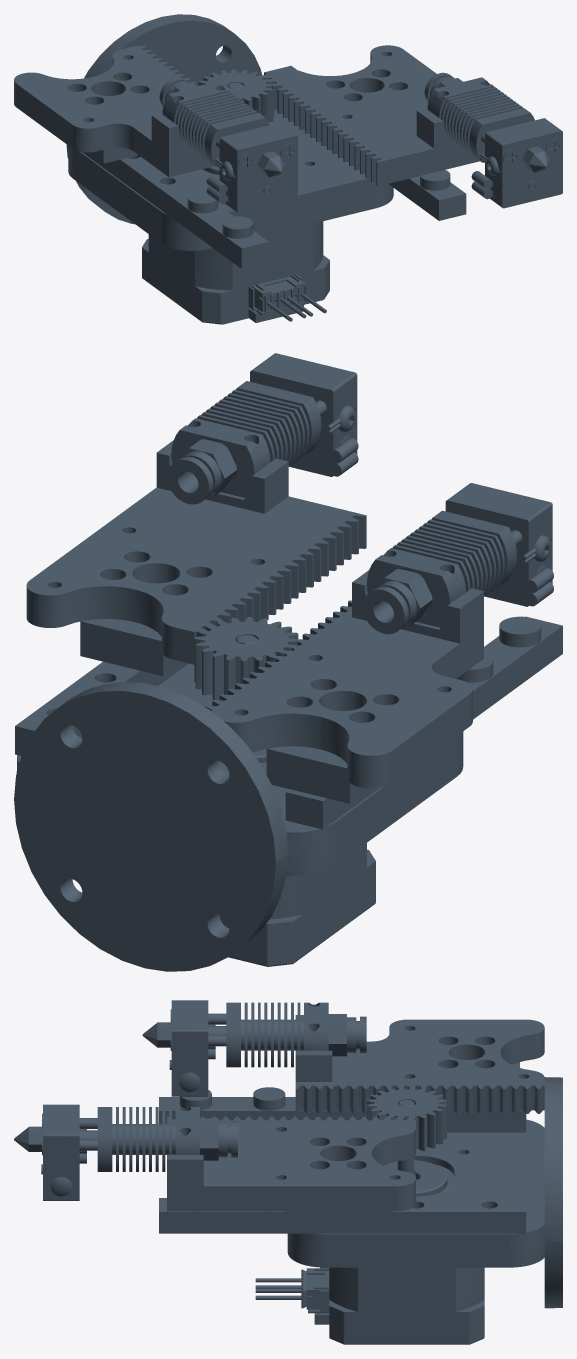
The model's file is RExtruderDownAssembly.dae.
3 views of the same model, one above another, from view 1: azimuth 30°, elevation 25°; view 2: azimuth 150°, elevation 25°; view 3: azimuth 270°, elevation 25° (orthographic). The views are drawn at different scales.
Visible parts, largest first — view 1: RExtruderDownAssembly; view 2: RExtruderDownAssembly; view 3: RExtruderDownAssembly.
Boxes of the visible parts, x1,y1,x2,y2 form: RExtruderDownAssembly: [14, 14, 562, 324]; RExtruderDownAssembly: [14, 353, 562, 971]; RExtruderDownAssembly: [14, 1000, 562, 1344].
Bounding box in the file's own units: 0.1074 × 0.1495 × 0.077.
